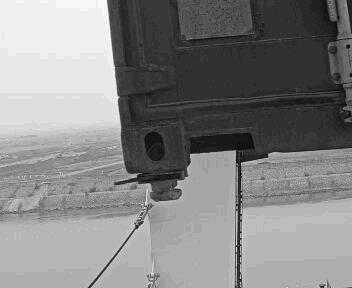twist_lock_1: (161, 163, 227, 202)
